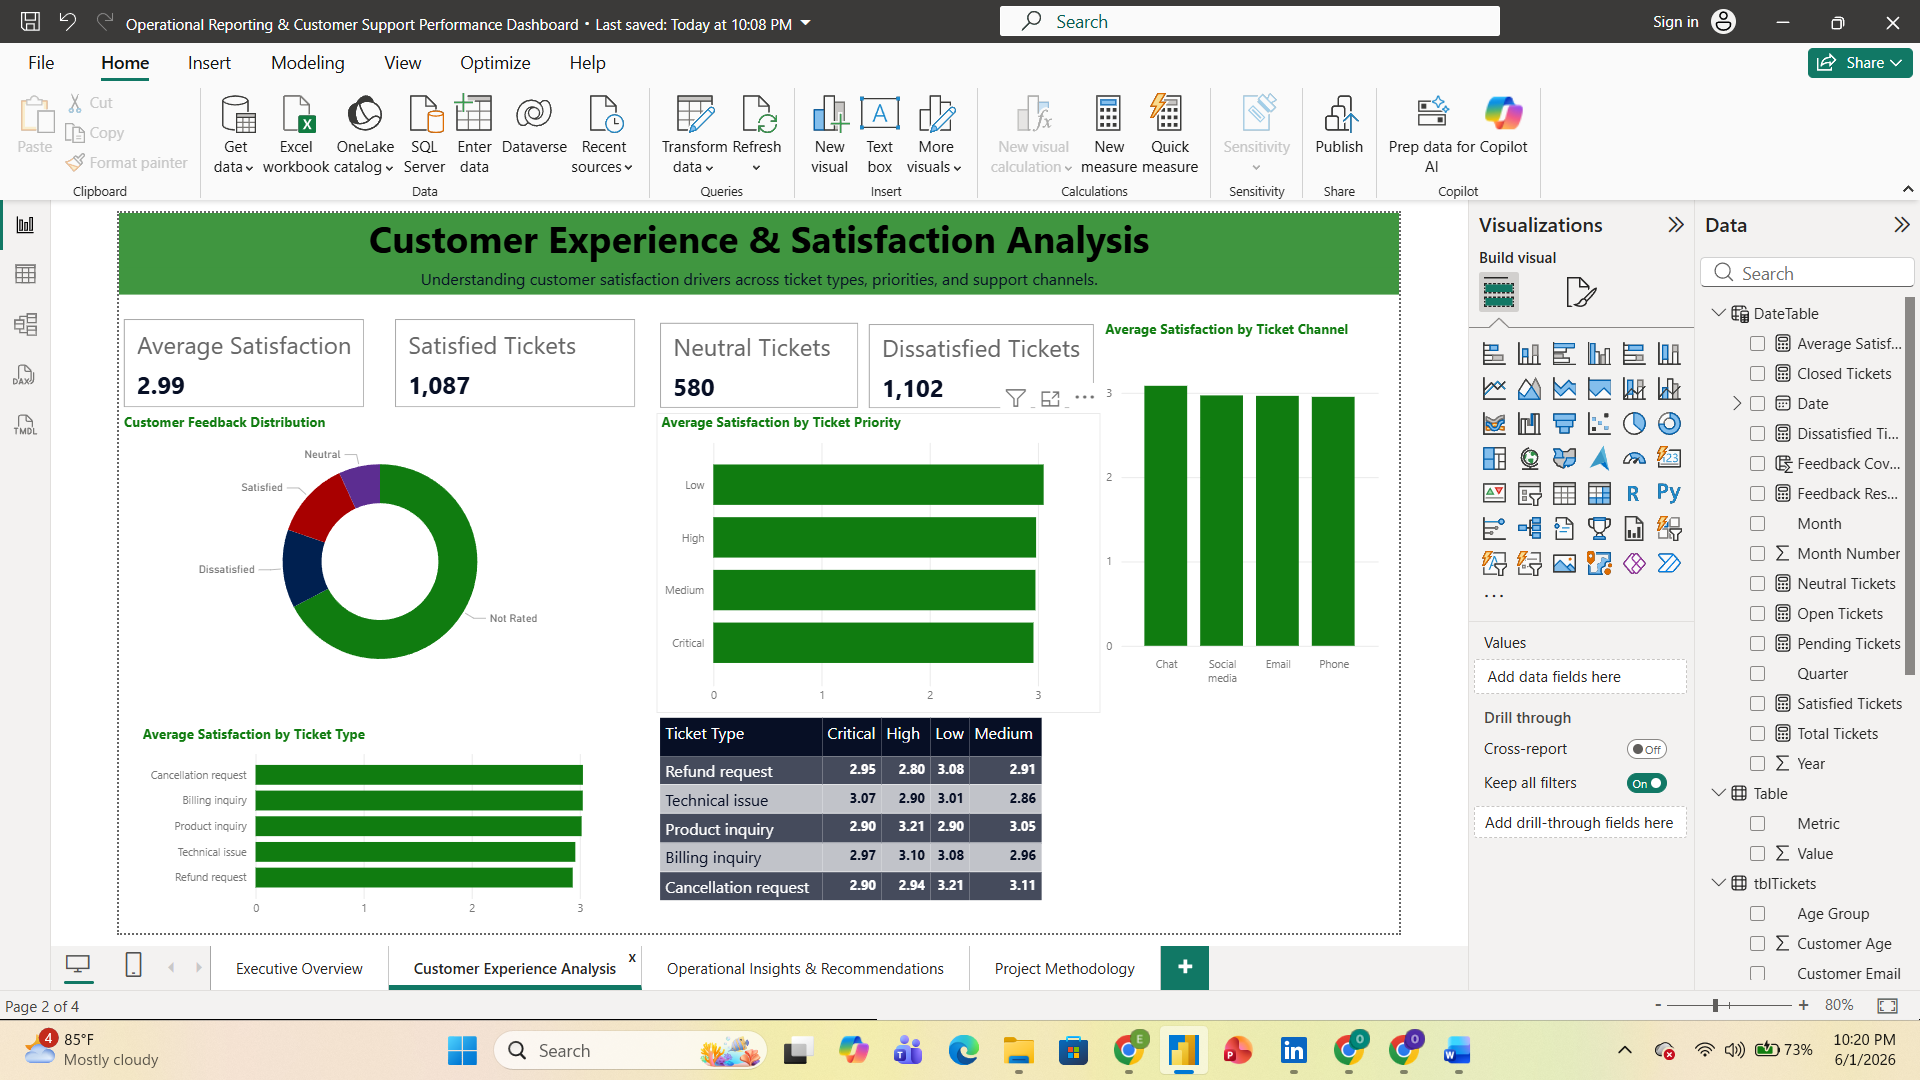

Layout of this report page (visuals, bound fields, positions):
{"tool":"powerbi","page":{"name":"Customer Experience Analysis","canvas":[1280,720],"ordinal":1},"visuals":[{"type":"cardVisual","fields":{"Data":["DateTable.Average Satisfaction"]},"box":[0,101.1,250.6,98.9],"z":0},{"type":"cardVisual","fields":{"Data":["DateTable.Satisfied Tickets"]},"box":[271.8,101.2,250.6,98.8],"z":1000},{"type":"cardVisual","fields":{"Data":["DateTable.Neutral Tickets"]},"box":[535.6,104.6,208,95.4],"z":2000},{"type":"cardVisual","fields":{"Data":["DateTable.Dissatisfied Tickets"]},"box":[744.8,105.7,235.6,94.3],"z":3000},{"type":"barChart","fields":{"Category":["tblTickets.Ticket Type"],"Y":["DateTable.Average Satisfaction"]},"box":[18.6,511.4,504.3,201.4],"z":4000},{"type":"barChart","fields":{"Category":["tblTickets.Ticket Priority"],"Y":["DateTable.Average Satisfaction"]},"box":[537.5,200,443.8,300],"z":5000},{"type":"clusteredColumnChart","fields":{"Y":["DateTable.Average Satisfaction"],"Category":["tblTickets.Ticket Channel"]},"box":[981.2,106.2,283.8,373.8],"z":6000},{"type":"donutChart","title":"Customer Feedback Distribution","fields":{"Category":["tblTickets.Satisfaction Category"],"Y":["DateTable.Total Tickets"]},"box":[0,200,522.4,280],"z":7000},{"type":"pivotTable","fields":{"Rows":["tblTickets.Ticket Type"],"Columns":["tblTickets.Ticket Priority"],"Values":["DateTable.Average Satisfaction"]},"box":[536.2,500,728.8,220],"z":8000},{"type":"textbox","title":"Customer Experience & Satisfaction Analysis","box":[0,0,1280.5,124.1],"z":9000}]}

Visuals, with their boxes on the page's 1280x720 design canvas (x1, y1, x2, y2). These are canvas units, not pixel positions in the 1920x1080 screenshot, which may show the page scaled, cropped or inside an application window:
cardVisual - DateTable.Average Satisfaction: x1=0, y1=101, x2=251, y2=200
cardVisual - DateTable.Satisfied Tickets: x1=272, y1=101, x2=522, y2=200
cardVisual - DateTable.Neutral Tickets: x1=536, y1=105, x2=744, y2=200
cardVisual - DateTable.Dissatisfied Tickets: x1=745, y1=106, x2=980, y2=200
barChart - tblTickets.Ticket Type x DateTable.Average Satisfaction: x1=19, y1=511, x2=523, y2=713
barChart - tblTickets.Ticket Priority x DateTable.Average Satisfaction: x1=538, y1=200, x2=981, y2=500
clusteredColumnChart - DateTable.Average Satisfaction x tblTickets.Ticket Channel: x1=981, y1=106, x2=1265, y2=480
"Customer Feedback Distribution" donutChart: x1=0, y1=200, x2=522, y2=480
pivotTable - tblTickets.Ticket Type x tblTickets.Ticket Priority: x1=536, y1=500, x2=1265, y2=720
"Customer Experience & Satisfaction Analysis" textbox: x1=0, y1=0, x2=1280, y2=124
